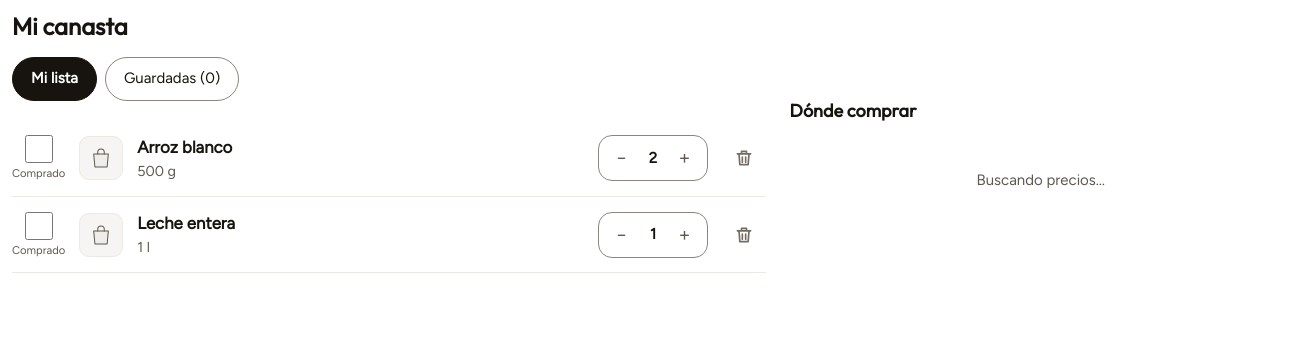
Scenario: mi canasta › lo comprado se tacha, va al final y se puede quitar
Click the checkbox labelled "Comprado" next to "Arroz blanco": {"x": 39, "y": 149} [25,135,53,163]
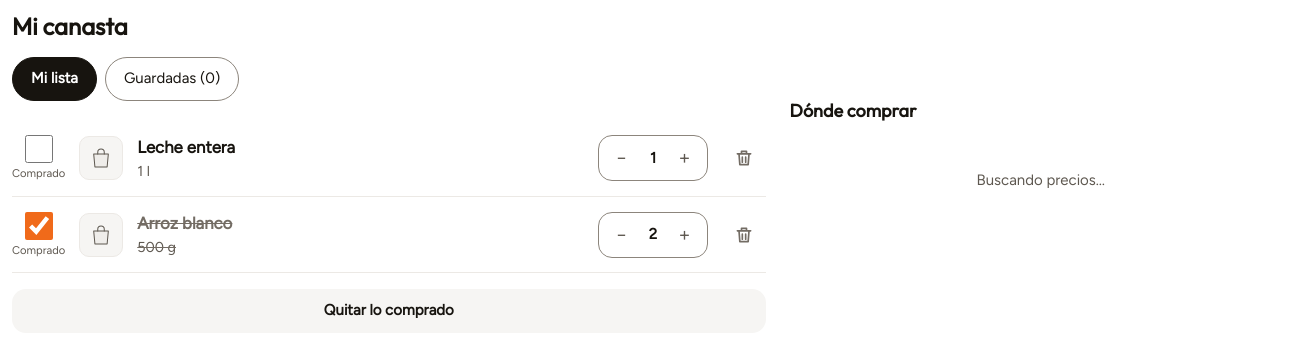
Now the list item "Comprado Arroz blanco 500 g − 2 +" has class "bought", box [12,197,766,273]
Click the button "Quitar lo comprado": {"x": 389, "y": 311} [12,289,766,333]
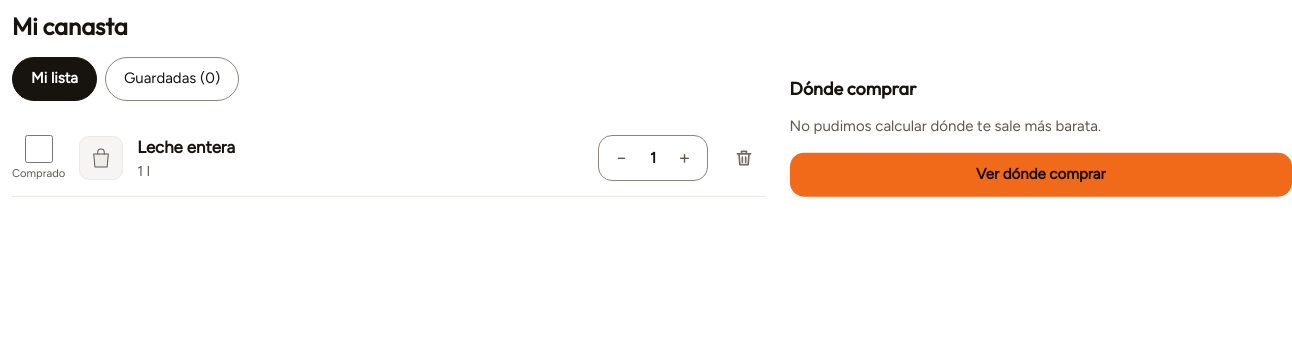
Now the link "Arroz blanco" is gone
